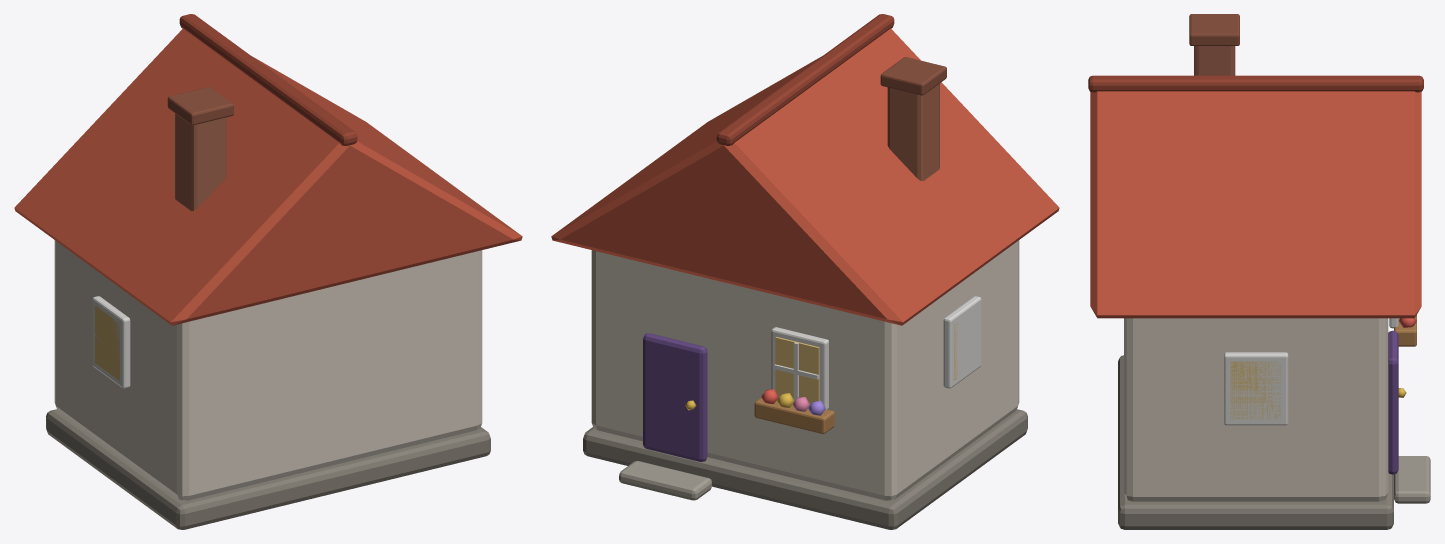
File: cottage_red.fbx
3 views of the same model, side by side, from view 1: azimuth 30°, elevation 25°; view 2: azimuth 150°, elevation 25°; view 3: azimuth 270°, elevation 25° (orthographic).
Parts seen in each view (by area): view 1: cottage_red; view 2: cottage_red; view 3: cottage_red.
Part boxes in pixels (bbox=[...]): cottage_red: bbox=[14, 14, 522, 529]; cottage_red: bbox=[551, 14, 1059, 529]; cottage_red: bbox=[1088, 14, 1430, 529].
Size of the model in its own units: 1.79 by 1.86 by 1.49.
